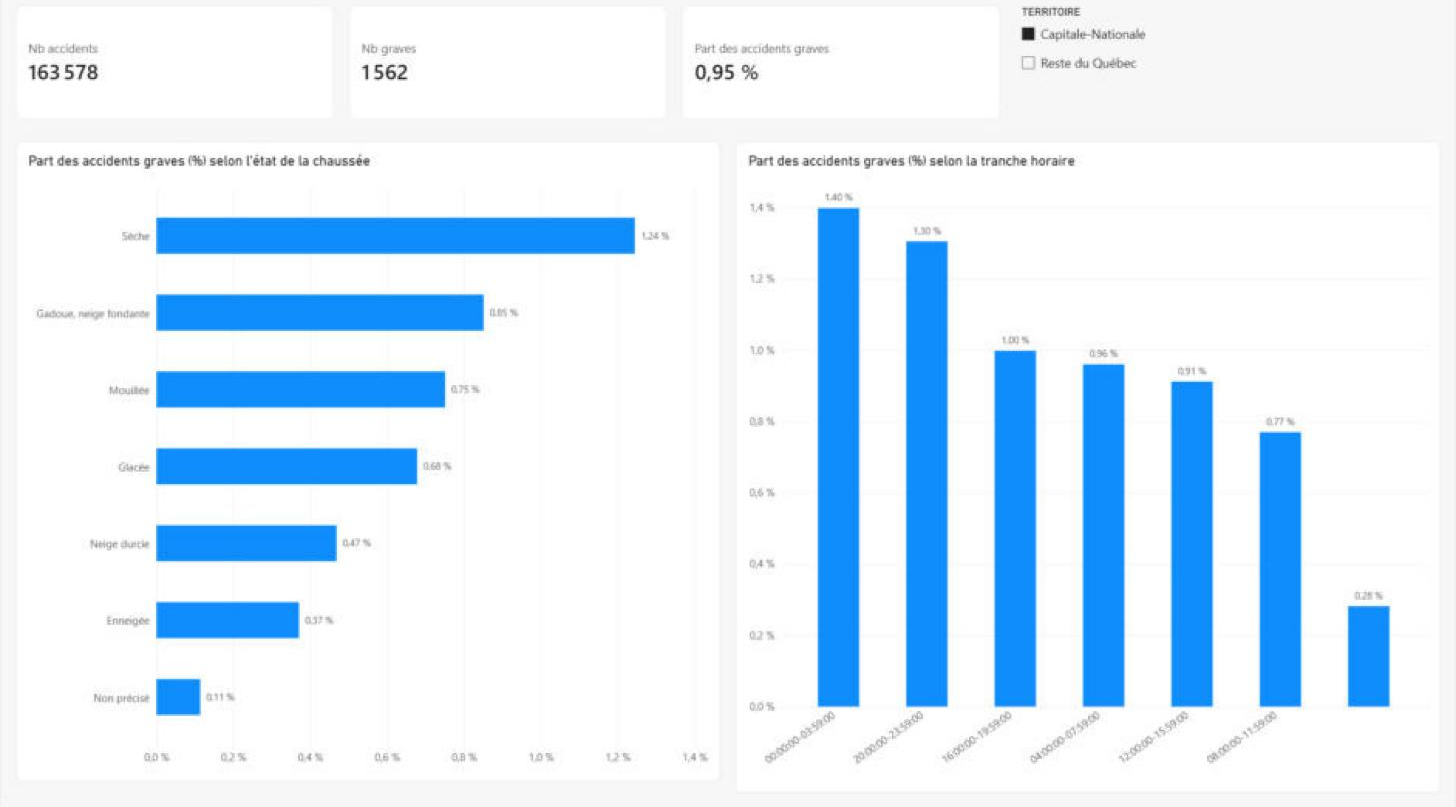

The dashboard page shown, as its layout file describes it:
{"tool":"powerbi","page":{"name":"Conditions à risque","canvas":[1920,1080],"ordinal":1},"visuals":[{"type":"cardVisual","fields":{"Data":["accidents_propre.Nb graves (affichage)"]},"box":[460,20,420,150],"z":0},{"type":"cardVisual","fields":{"Data":["accidents_propre.Nb accidents (affichage)"]},"box":[20,20,420,150],"z":1},{"type":"cardVisual","fields":{"Data":["accidents_propre.% graves"]},"box":[900,20,420,150],"z":2},{"type":"slicer","fields":{"Values":["accidents_propre.TERRITOIRE"]},"box":[1340,20,560,150],"z":3},{"type":"clusteredBarChart","title":"Part des accidents graves (%) selon l''état de la chaussée","fields":{"Category":["accidents_propre.ETAT_SURFACE"],"Y":["accidents_propre.% graves"]},"box":[20,200,930,845],"z":4},{"type":"clusteredColumnChart","title":"Part des accidents graves (%) selon la tranche horaire","fields":{"Category":["accidents_propre.HR_ACCDN"],"Y":["accidents_propre.% graves"]},"box":[970,200,930,860],"z":5}]}

Visuals, with their boxes in screenshot pixels (x1, y1, x2, y2), scaled from the page's 1920x1080 canvas onto the 1456x807 screenshot:
cardVisual - accidents_propre.Nb graves (affichage): locate(349, 15, 667, 127)
cardVisual - accidents_propre.Nb accidents (affichage): locate(15, 15, 334, 127)
cardVisual - accidents_propre.% graves: locate(682, 15, 1001, 127)
slicer - accidents_propre.TERRITOIRE: locate(1016, 15, 1441, 127)
"Part des accidents graves (%) selon l''état de la chaussée" clusteredBarChart: locate(15, 149, 720, 781)
"Part des accidents graves (%) selon la tranche horaire" clusteredColumnChart: locate(736, 149, 1441, 792)
